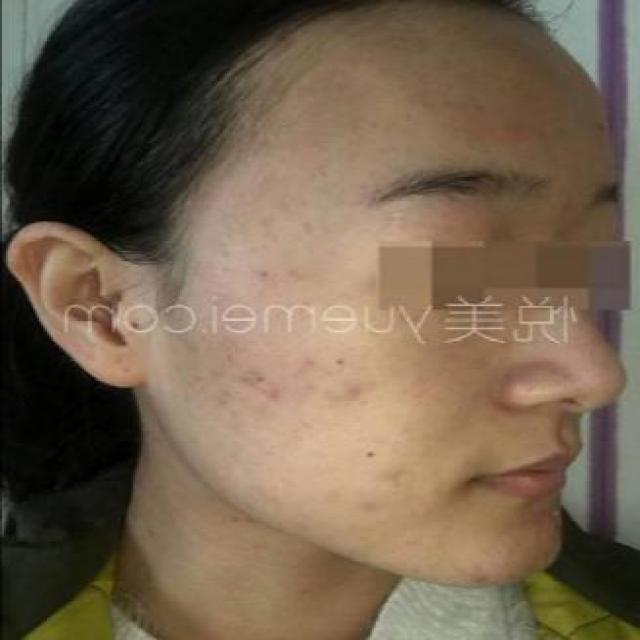Acne: (237, 363, 284, 405), (338, 374, 372, 404), (294, 348, 323, 377), (295, 374, 325, 397), (464, 566, 497, 586), (252, 262, 278, 283)
Blackheads: (354, 444, 388, 464), (321, 352, 354, 372)
